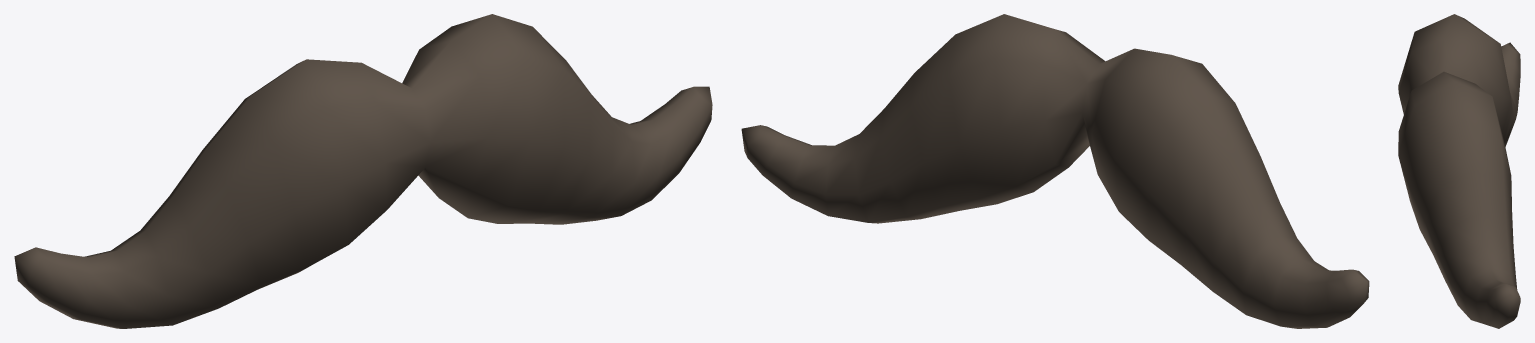
Rendered from Moustache.fbx.
3 views of the same model, side by side, from view 1: azimuth 30°, elevation 25°; view 2: azimuth 150°, elevation 25°; view 3: azimuth 270°, elevation 25° (orthographic). The views are drawn at different scales.
Parts seen in each view (by area): view 1: Moustache; view 2: Moustache; view 3: Moustache.
Part boxes in pixels (x1,y1,x2,y2): Moustache: (14, 14, 712, 328); Moustache: (741, 14, 1369, 328); Moustache: (1398, 14, 1520, 328).
Bounding box in the file's own units: 215 × 73.79 × 43.99.
